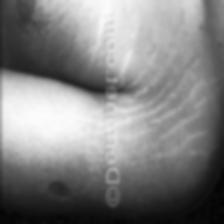Unclassified: (50, 174, 70, 203), (0, 0, 12, 30)
